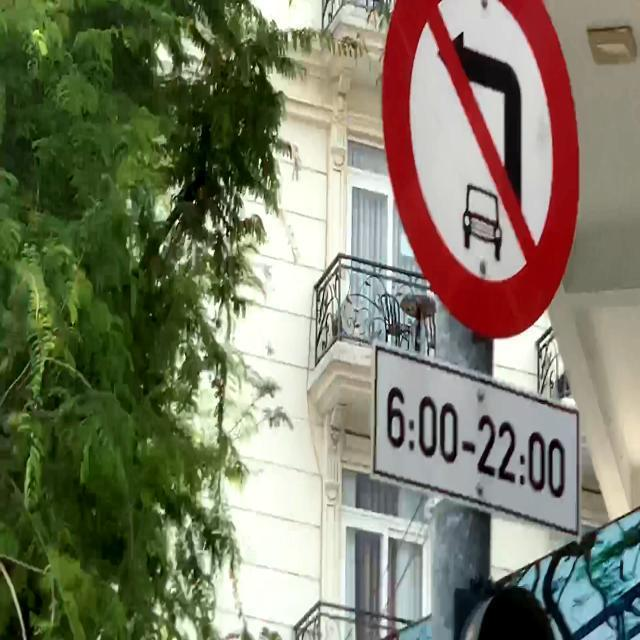123a-cam-re-trai: (381, 0, 580, 338)
